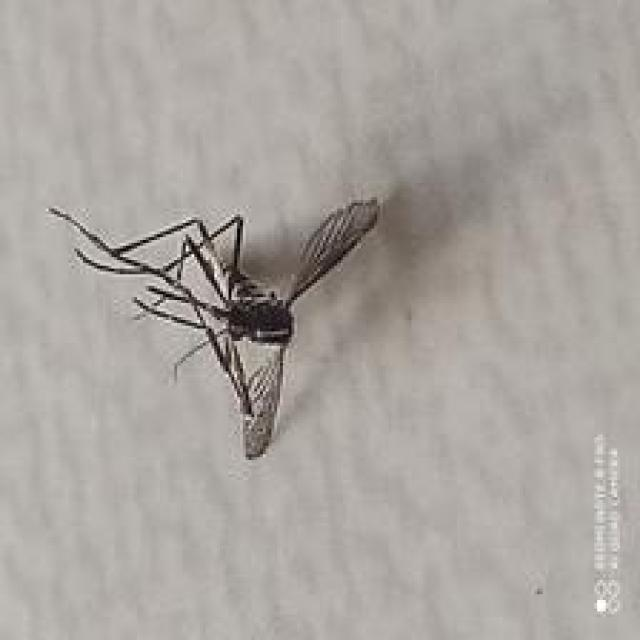Aedes albopictus: (46, 193, 383, 461)
